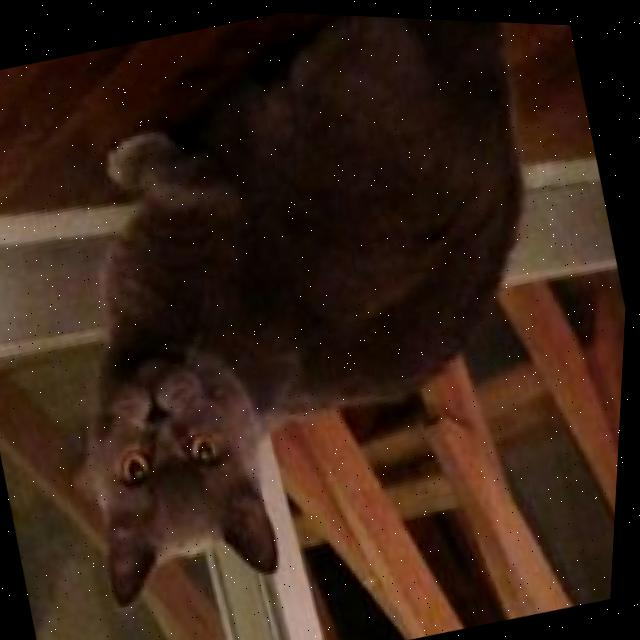British Shorthair: (0, 0, 630, 630)
